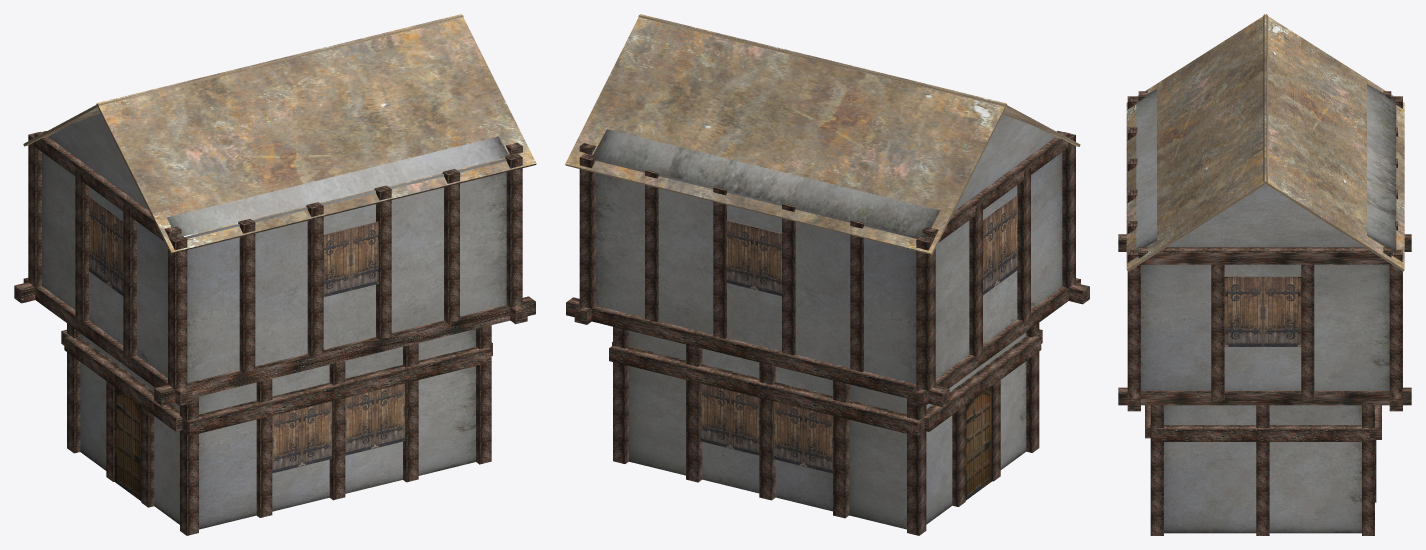
The model's file is House4.FBX.
The picture shows the model from 3 angles, left to right: view 1: azimuth 30°, elevation 25°; view 2: azimuth 150°, elevation 25°; view 3: azimuth 270°, elevation 25°; orthographic projection. The views are drawn at different scales.
Parts seen in each view (by area): view 1: Roof002, Base001, Base, Prism1, HatchWindowRight (×4), HatchWindowLeft (×4), WoodenBeam014, WoodenBeam019, WoodenPillar022, WoodenBeam006, Door, WoodenBeam018 (+18 smaller); view 2: Roof1, Base001, Base, Prism1, HatchWindowLeft (×4), HatchWindowRight (×4), WoodenBeam015, WoodenBeam017, WoodenPillar019, WoodenBeam006, Door, WoodenBeam018 (+18 smaller); view 3: Base001, Base, Roof002, Roof1, Prism1, WoodenBeam021, WoodenBeam016, r, HatchWindowRight, HatchWindowLeft, WoodenPillar025, WoodenPillar026 (+6 smaller).
Part boxes in pixels (left/top/right/bottom): Roof002: left=96, top=14, right=536, bottom=253; Base001: left=42, top=152, right=506, bottom=382; Base: left=80, top=329, right=475, bottom=529; Prism1: left=48, top=113, right=508, bottom=236; HatchWindowRight (×4): left=89, top=196, right=378, bottom=473; HatchWindowLeft (×4): left=109, top=211, right=405, bottom=465; WoodenBeam014: left=182, top=347, right=491, bottom=435; WoodenBeam019: left=154, top=296, right=535, bottom=405; WoodenPillar022: left=168, top=235, right=187, bottom=389; WoodenBeam006: left=64, top=336, right=182, bottom=431; Door: left=114, top=387, right=141, bottom=500; WoodenBeam018: left=23, top=277, right=192, bottom=405; Roof1: left=565, top=14, right=1006, bottom=254; Base001: left=595, top=152, right=1062, bottom=383; Base: left=629, top=330, right=1026, bottom=529; Prism1: left=592, top=114, right=1054, bottom=237; HatchWindowLeft (×4): left=730, top=195, right=1017, bottom=473; HatchWindowRight (×4): left=699, top=210, right=997, bottom=466; WoodenBeam015: left=609, top=345, right=924, bottom=436; WoodenBeam017: left=566, top=297, right=949, bottom=406; WoodenPillar019: left=916, top=236, right=935, bottom=390; WoodenBeam006: left=923, top=336, right=1041, bottom=431; Door: left=965, top=386, right=992, bottom=500; WoodenBeam018: left=911, top=278, right=1080, bottom=406; Base001: left=1141, top=264, right=1389, bottom=390; Base: left=1164, top=405, right=1361, bottom=533; Roof002: left=1126, top=14, right=1268, bottom=271; Roof1: left=1263, top=14, right=1404, bottom=271; Prism1: left=1136, top=84, right=1396, bottom=251; WoodenBeam021: left=1138, top=247, right=1391, bottom=264; WoodenBeam016: left=1118, top=387, right=1411, bottom=405; r: left=1156, top=425, right=1369, bottom=441; HatchWindowRight: left=1262, top=276, right=1301, bottom=346; HatchWindowLeft: left=1224, top=276, right=1262, bottom=346; WoodenPillar025: left=1211, top=264, right=1224, bottom=401; WoodenPillar026: left=1301, top=264, right=1314, bottom=401.
Bounding box in the file's own units: 76.85 × 77.27 × 55.6.
